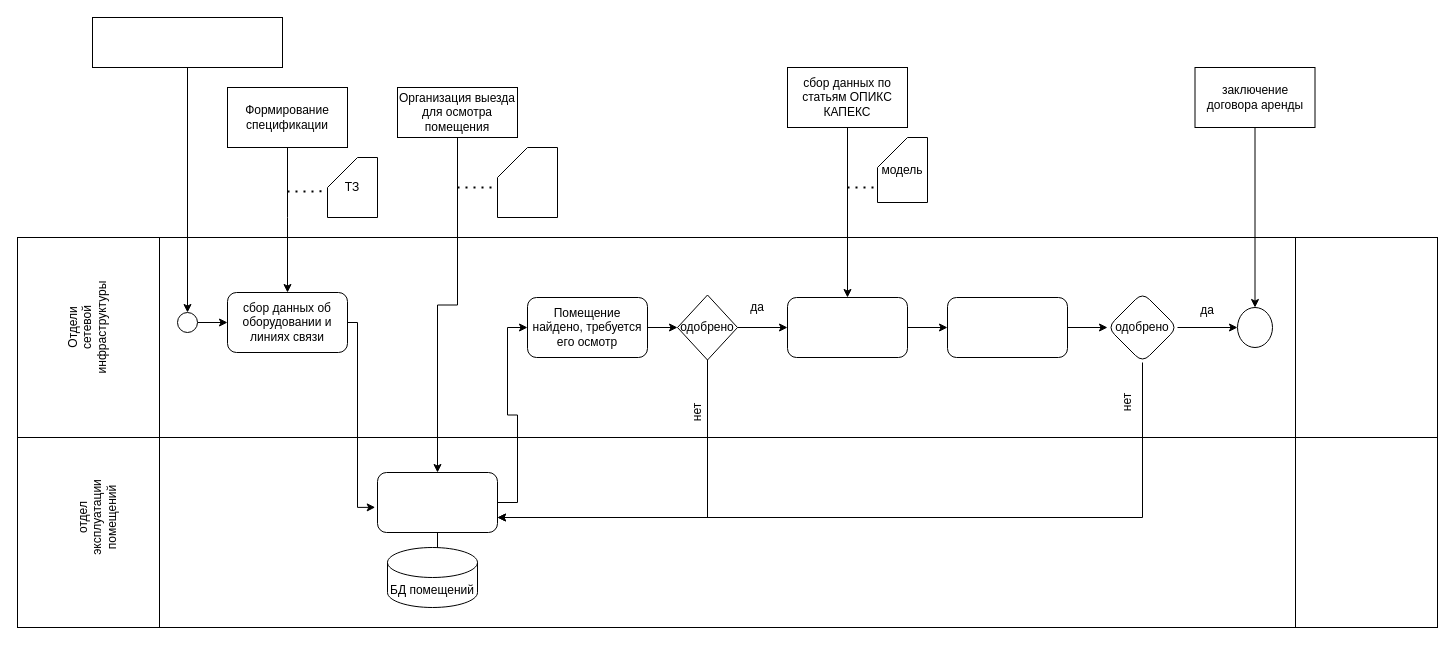
Some shapes in this 1455 by 645 pixel diagram are drawn without their labels. The centre of each missing label's shape, as x and y in pixels:
"Запрос на вынос узла связи" goes at [187,42].
"Защита проекта" goes at [1007,327].
"Подготовка модели затрат" goes at [847,327].
"Поиск помещений в соответствии с ТЗ" goes at [437,502].
"протокол осмотра" goes at [527,182].
